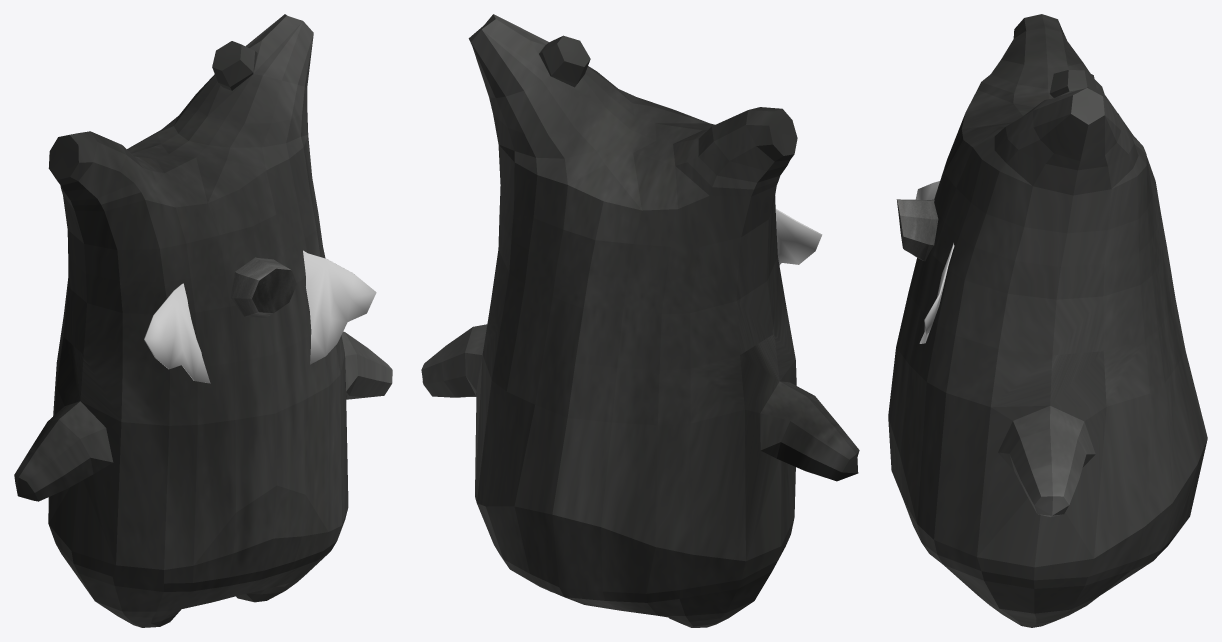
File: frame_0011.obj
3 renders of one model, left to right at view 1: azimuth 30°, elevation 25°; view 2: azimuth 150°, elevation 25°; view 3: azimuth 270°, elevation 25°, orthographic. The views are drawn at different scales.
Parts seen in each view (by area): view 1: korok, leaf, nose; view 2: korok, leaf; view 3: korok, nose, leaf.
Part boxes in pixels (x1,y1,x2,y2): korok: [14, 14, 392, 627]; leaf: [144, 250, 376, 383]; nose: [231, 257, 296, 317]; korok: [421, 14, 859, 627]; leaf: [775, 209, 822, 265]; korok: [888, 14, 1207, 627]; nose: [896, 199, 938, 261]; leaf: [915, 181, 954, 343].
Size of the model in its own units: 1.69 by 2.27 by 1.17.
